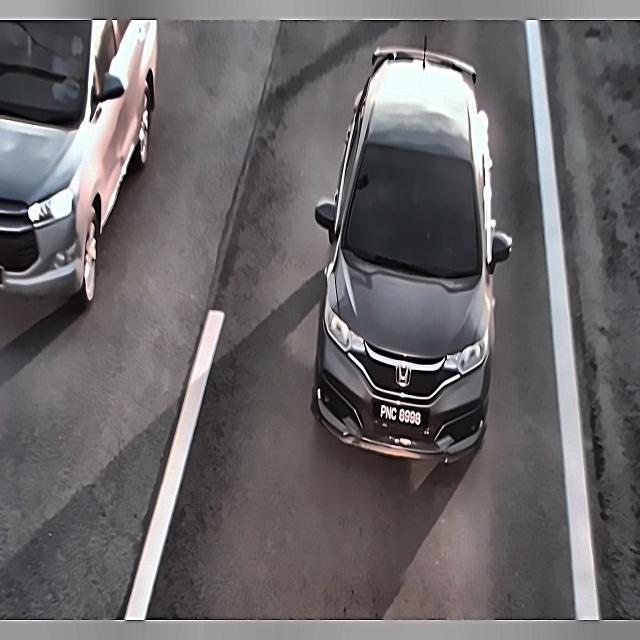car: (370, 395, 434, 436)
